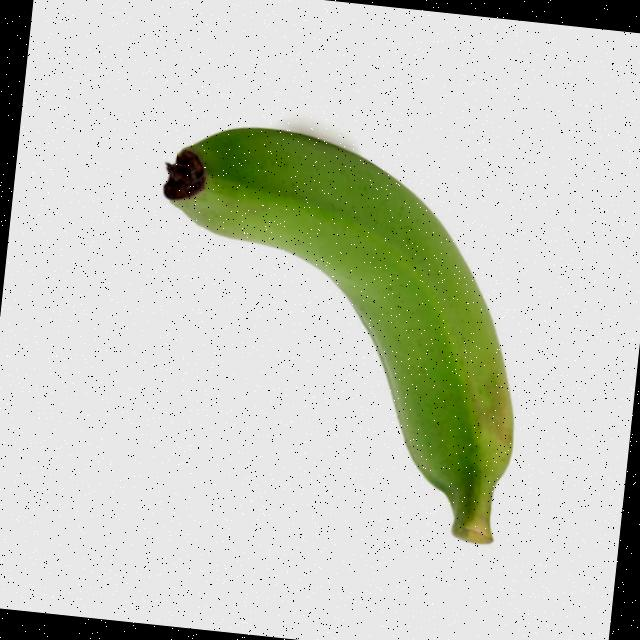banana: (129, 115, 542, 548)
